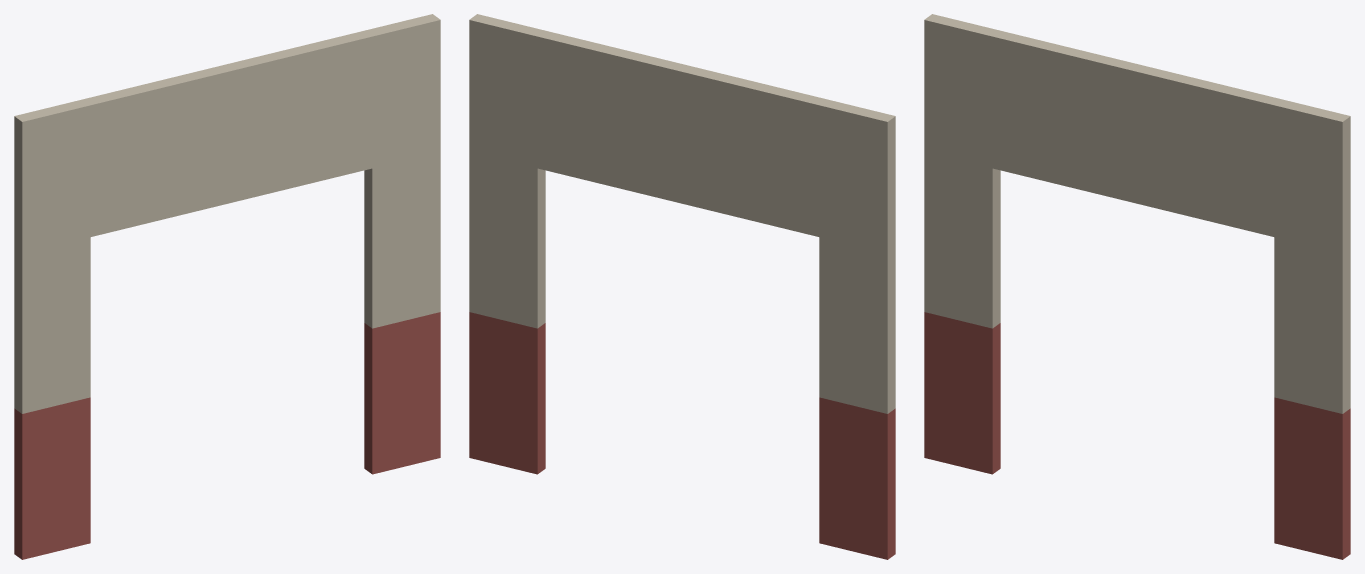
Rendered from Mesh_Wall2Colors_D4.fbx.
3 views of the same model, side by side, from view 1: azimuth 30°, elevation 25°; view 2: azimuth 150°, elevation 25°; view 3: azimuth 330°, elevation 25° (orthographic).
Visible parts, largest first — view 1: Mesh_Wall2Colors_D4; view 2: Mesh_Wall2Colors_D4; view 3: Mesh_Wall2Colors_D4.
Part boxes in pixels (box(x1,y1,x2,y2)): Mesh_Wall2Colors_D4: box(14, 14, 440, 559); Mesh_Wall2Colors_D4: box(469, 14, 895, 559); Mesh_Wall2Colors_D4: box(924, 14, 1350, 559).
Bounding box in the file's own units: 3 × 3 × 0.1.
